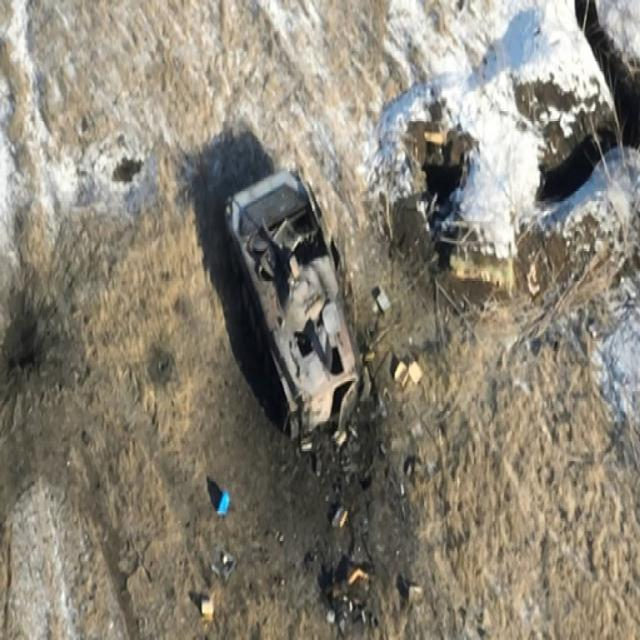APC-IFV: (207, 171, 365, 436)
